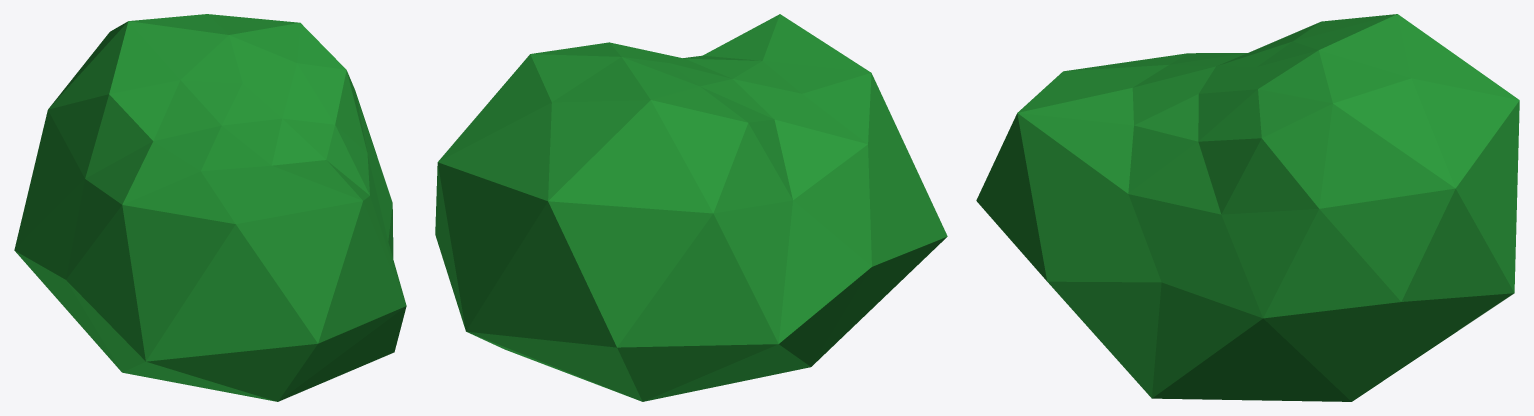
File: Bush_01.fbx
3 renders of one model, left to right at view 1: azimuth 30°, elevation 25°; view 2: azimuth 150°, elevation 25°; view 3: azimuth 270°, elevation 25°, orthographic. The views are drawn at different scales.
Visible parts, largest first — view 1: Icosphere; view 2: Icosphere; view 3: Icosphere.
Boxes of the visible parts, bbox=[...] form: Icosphere: bbox=[14, 14, 406, 401]; Icosphere: bbox=[435, 14, 947, 401]; Icosphere: bbox=[976, 14, 1519, 401].
Size of the model in its own units: 140 by 127 by 184.
